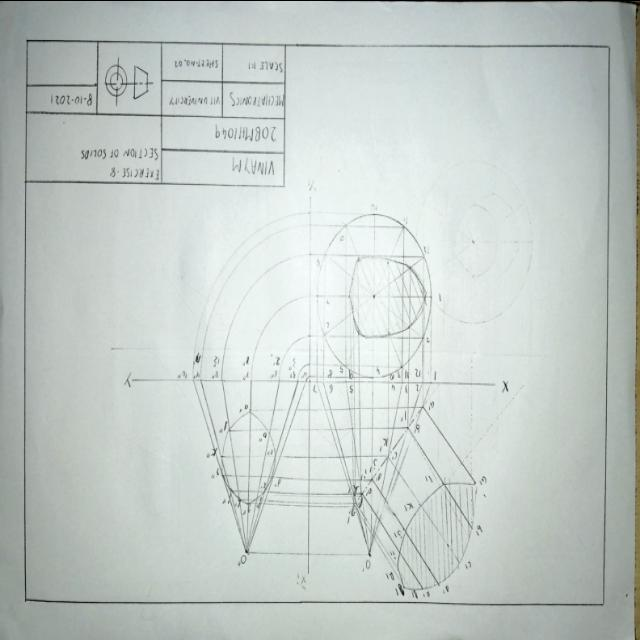Drawings: (153, 194, 500, 600)
